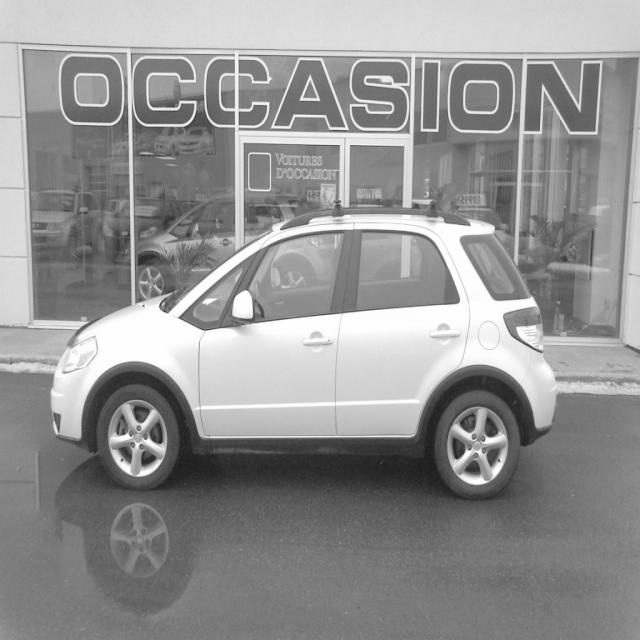car: (50, 199, 558, 499)
